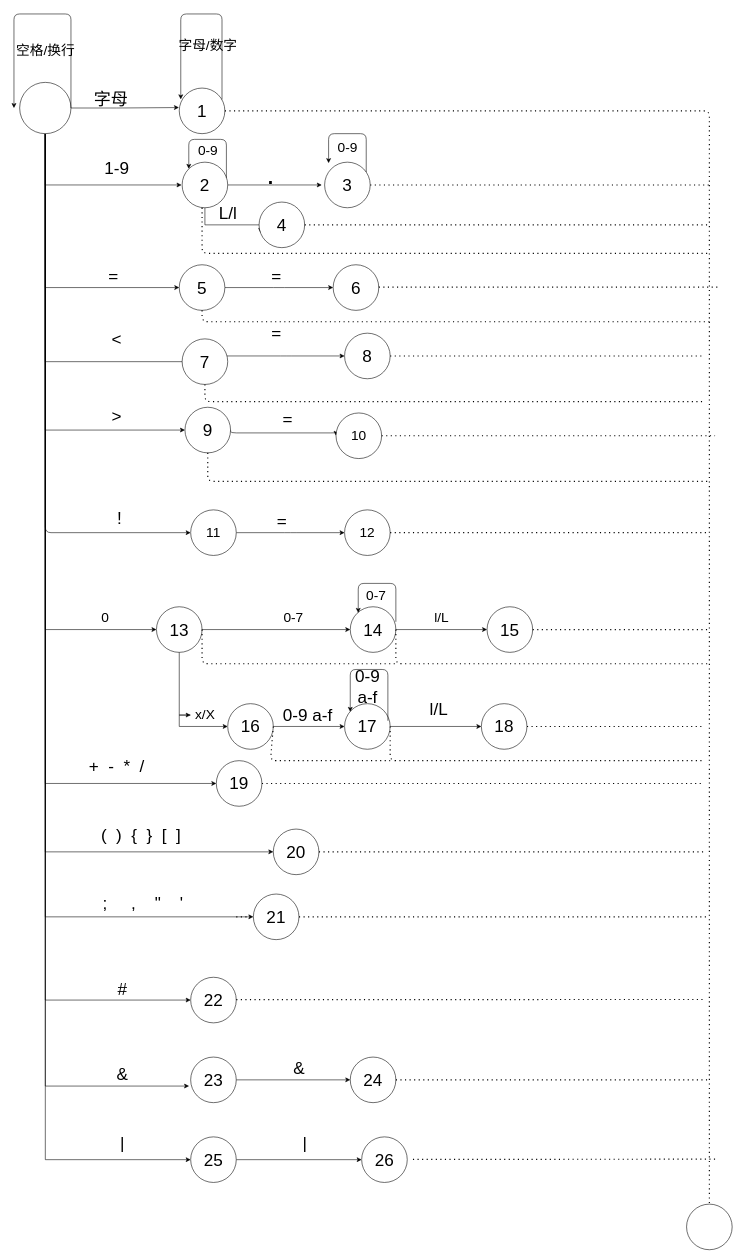
This 742x1260 diagram has some shape labels left out. The shapes that lost their labels are listed below. From the top down, each one's centre as x and y in pixels, then its label:
At (45,108): "START".
At (709,1227): "END".
